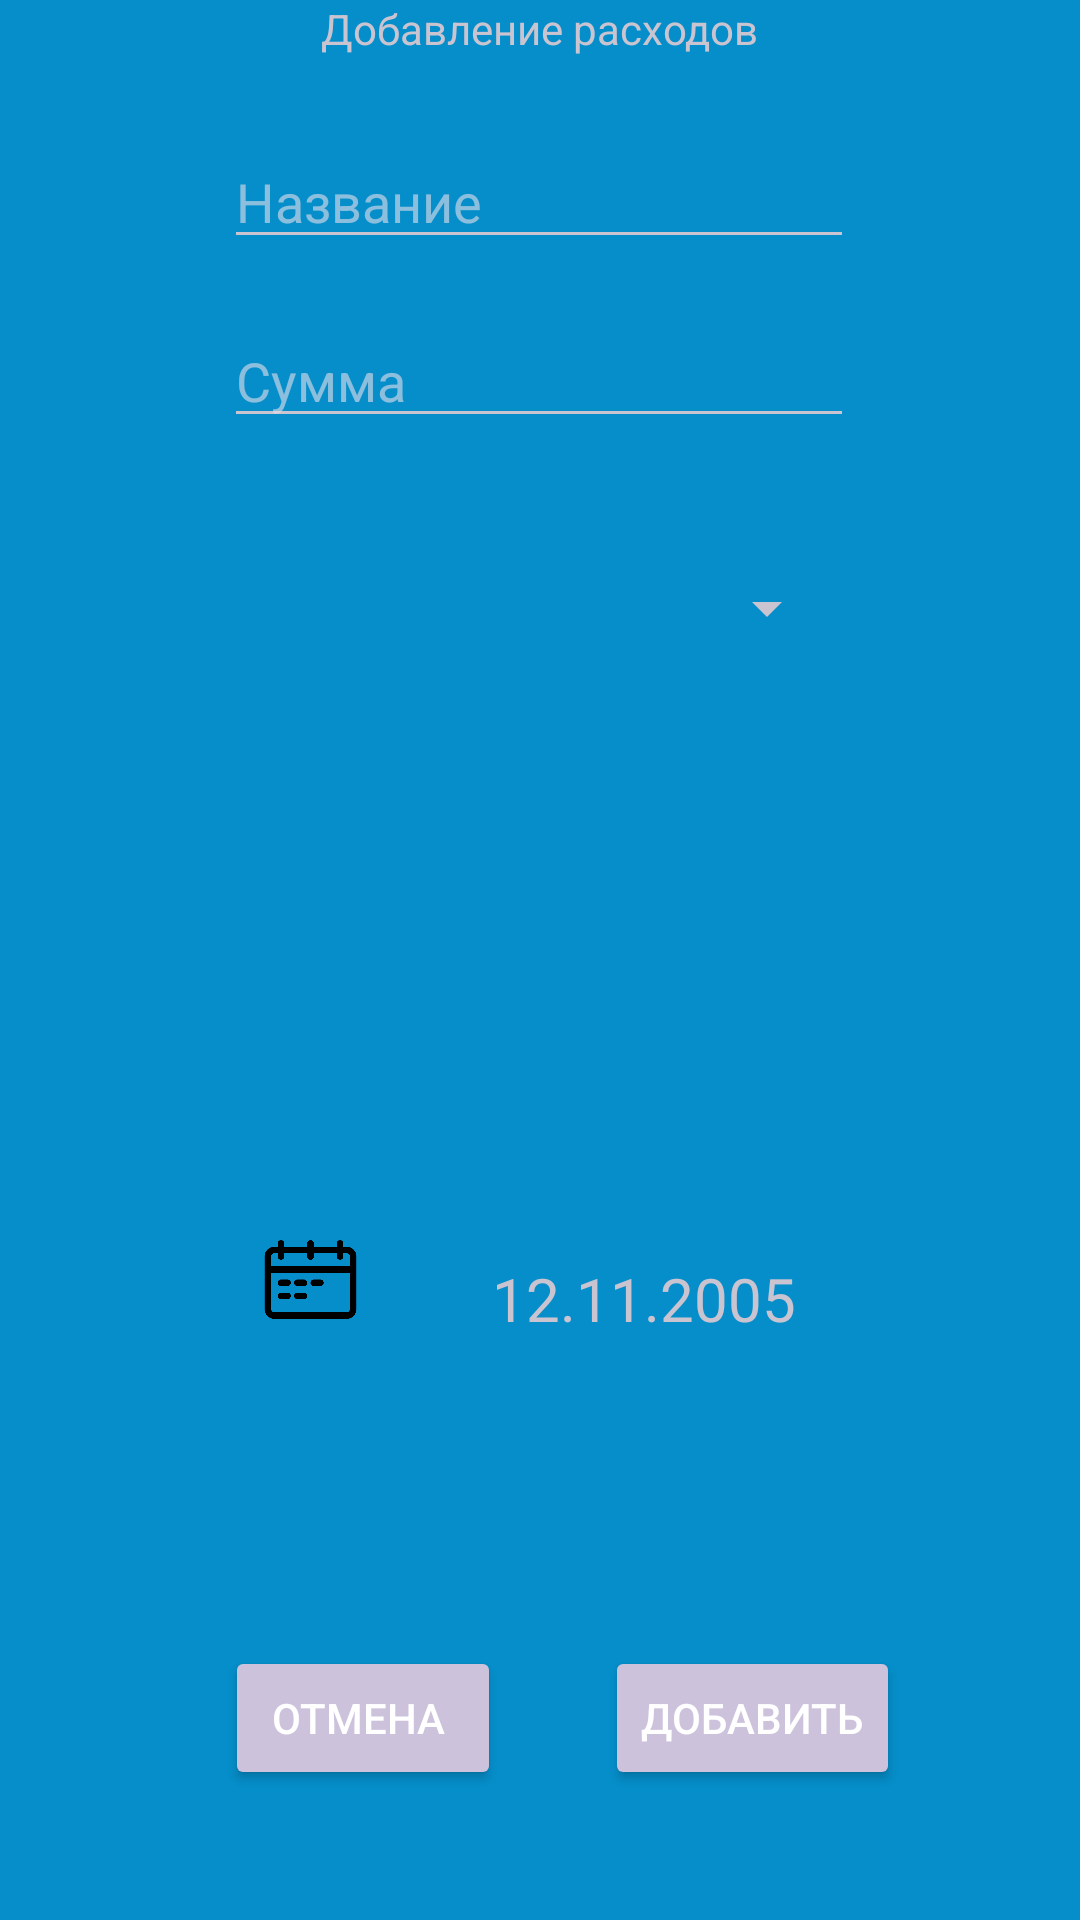

Locate icon controls on the screen. Image size 1080 × 1920, boxes as (x1, y1, x2, y2).
calendar: (264, 1240, 357, 1319)
